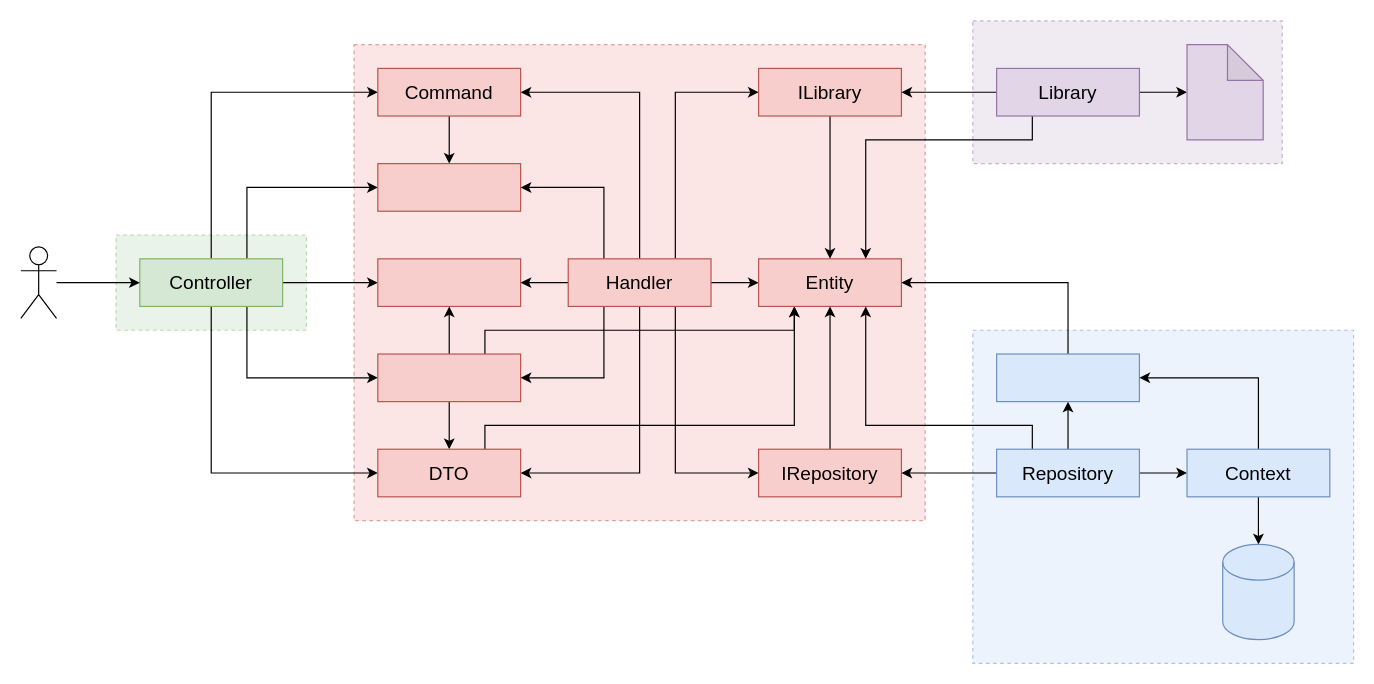
The diagram is 1374 pixels wide and 684 high, and some of its shapes have lost their labels. Each missing label, with the centre of its shape:
DAO: the point at 1067,377
DLL: the point at 1224,91
ICommand: the point at 449,186
IQuery: the point at 449,282
Query: the point at 449,377
